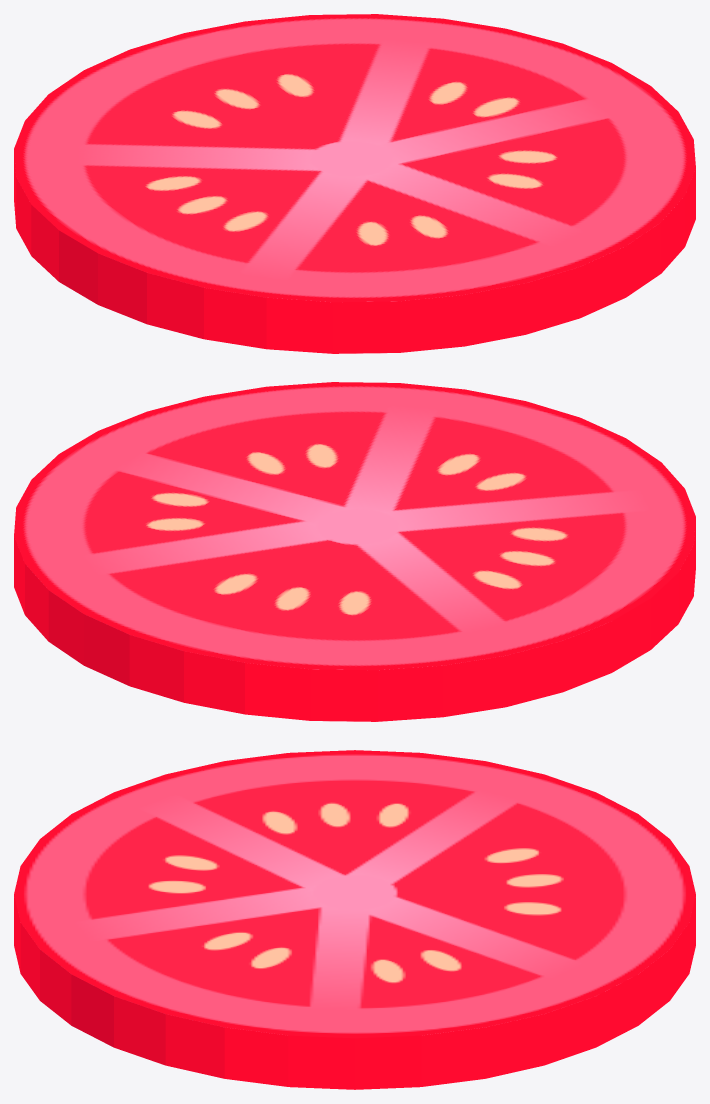
File: tomato.glb
3 renders of one model, top to bottom at view 1: azimuth 30°, elevation 25°; view 2: azimuth 150°, elevation 25°; view 3: azimuth 270°, elevation 25°, orthographic.
Visible parts, largest first — view 1: Cylinder; view 2: Cylinder; view 3: Cylinder.
Part boxes in pixels (bbox=[...]): Cylinder: bbox=[14, 14, 695, 353]; Cylinder: bbox=[14, 382, 695, 721]; Cylinder: bbox=[14, 750, 695, 1089].
Bounding box in the file's own units: 0.6 × 0.05 × 0.6.
Materials: 1 (1 with a texture image).
